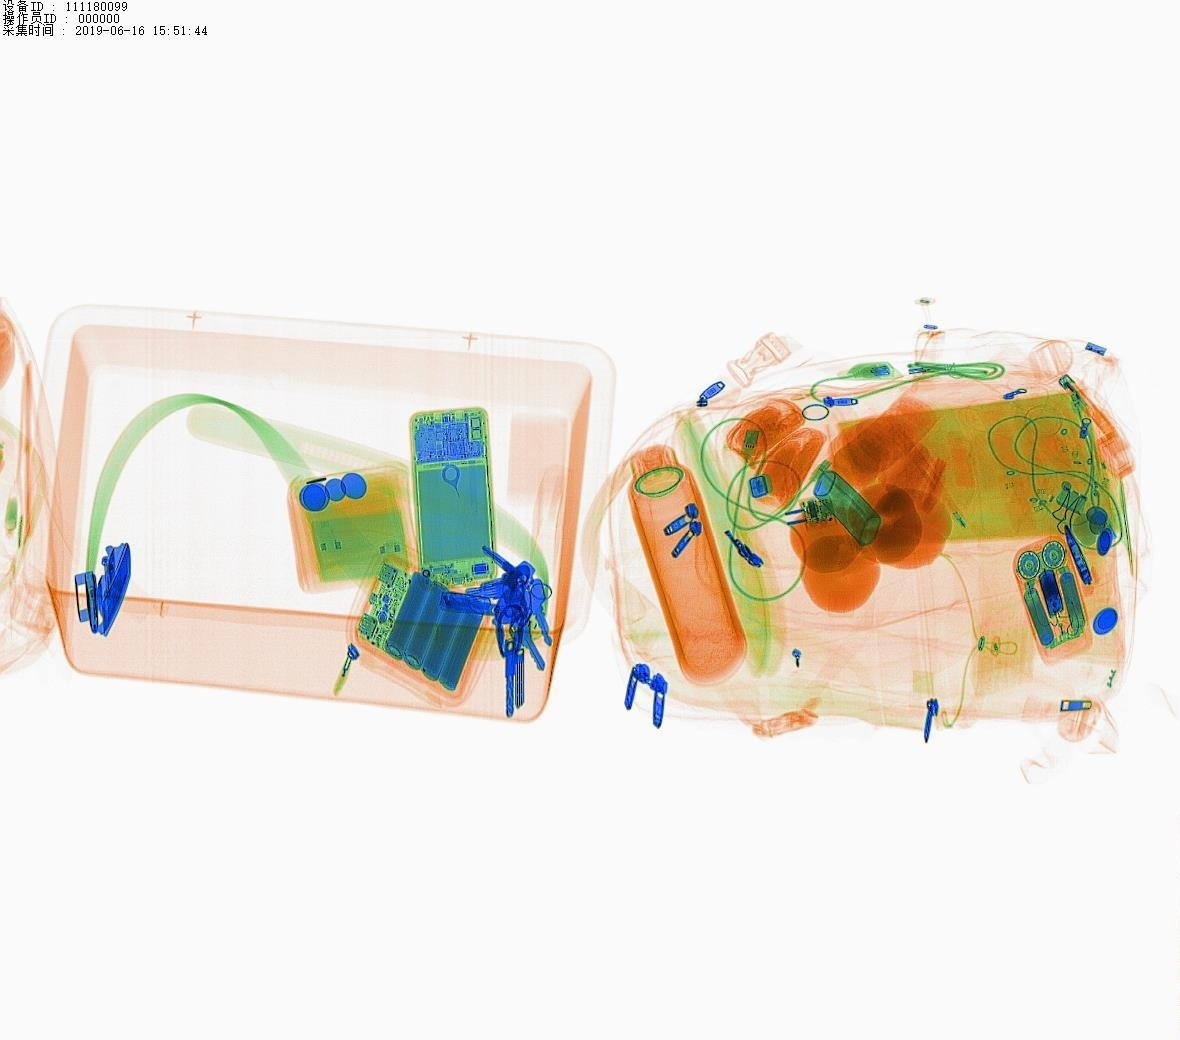NonmetallicFire: (1051, 366, 1131, 466)
